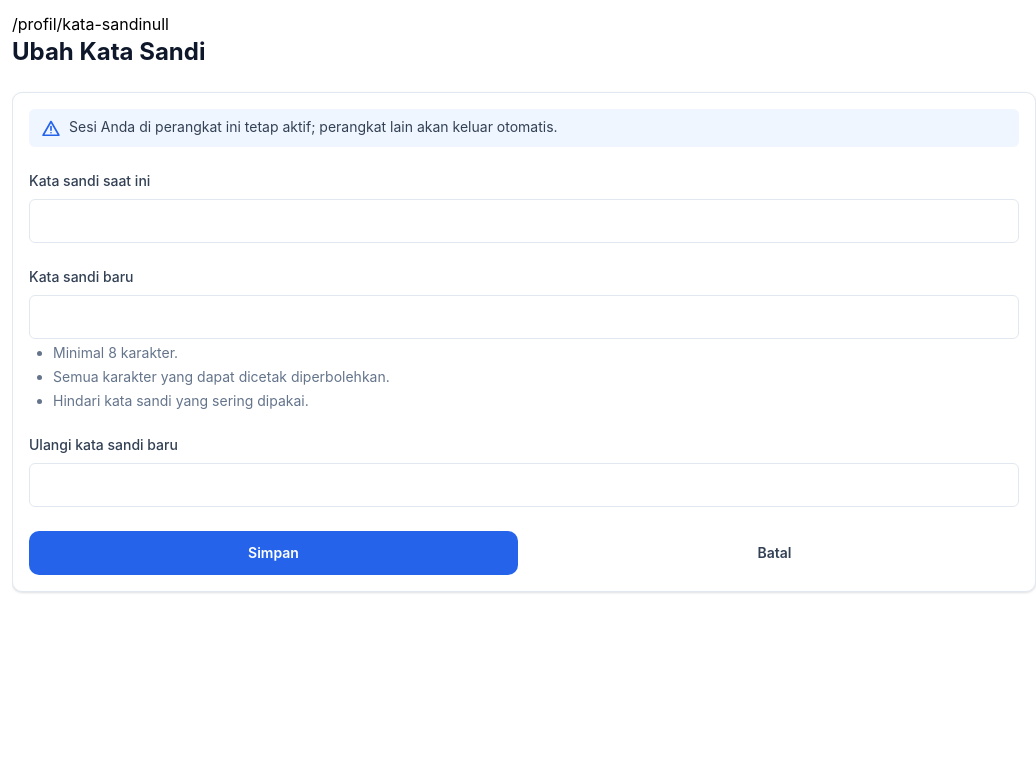
Test case: ChangePasswordPage › blocks a mismatched confirmation before any request is made
Type "old-secret-1" into the password field labelled "Kata sandi saat ini" at (524, 221), box [29,199,1019,243]
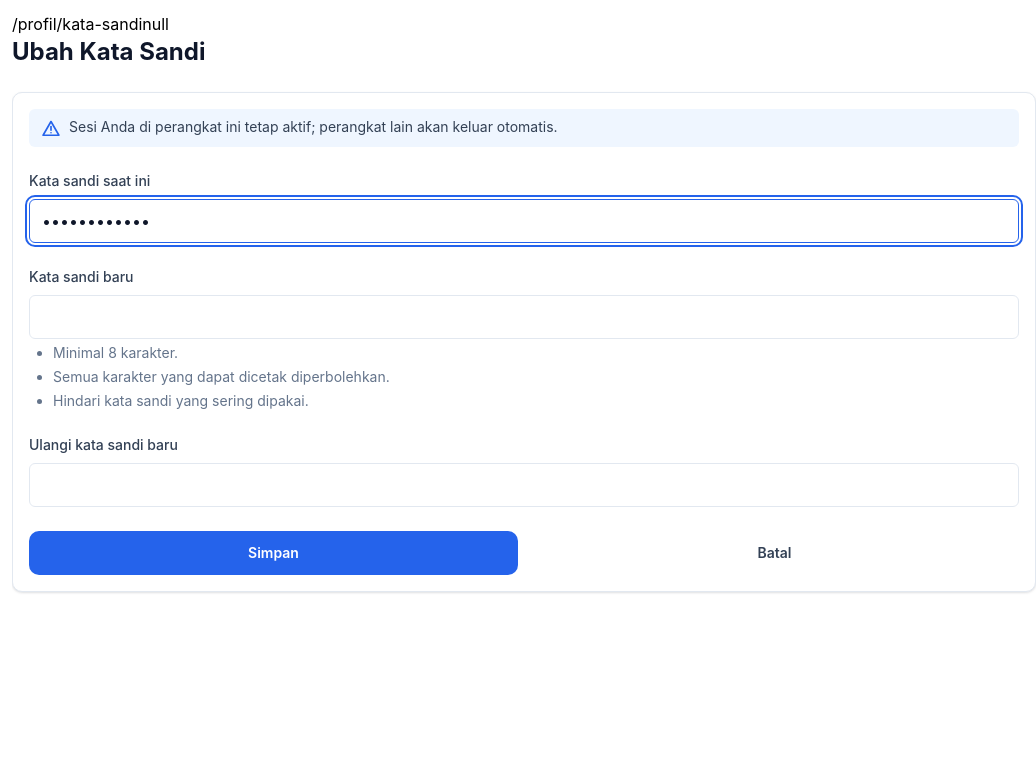
Type "brand-new-pass" into the password field labelled "Kata sandi baru" at (524, 317), box [29,295,1019,339]
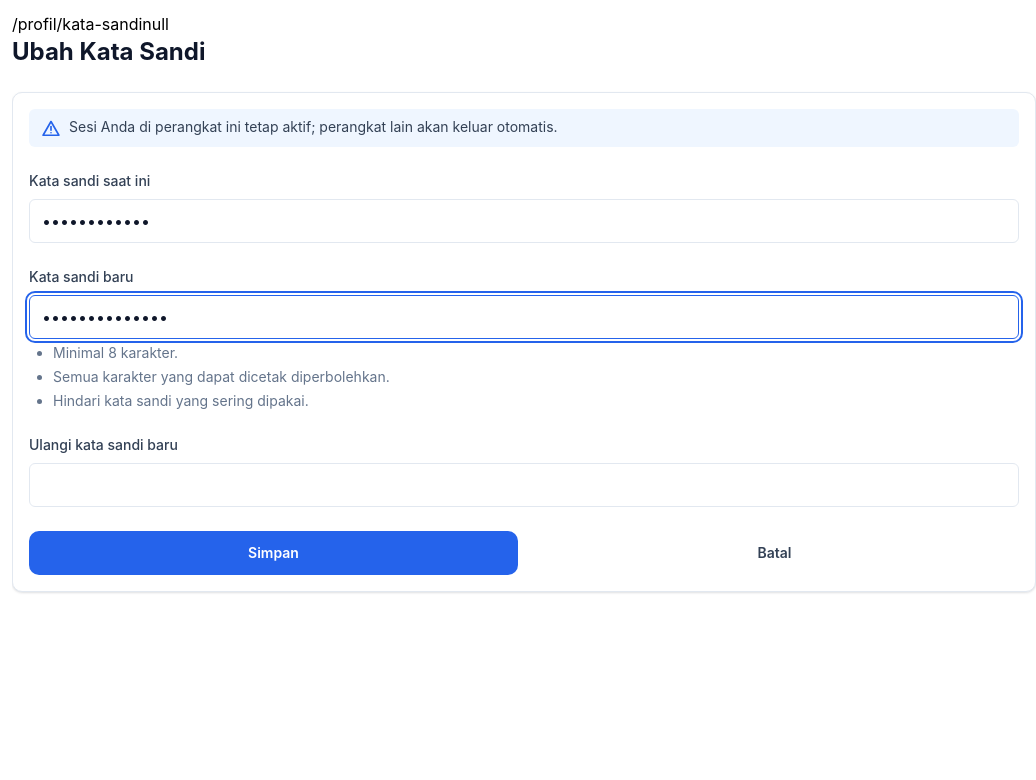
Type "different-pass" into the password field labelled "Ulangi kata sandi baru" at (524, 485), box [29,463,1019,507]
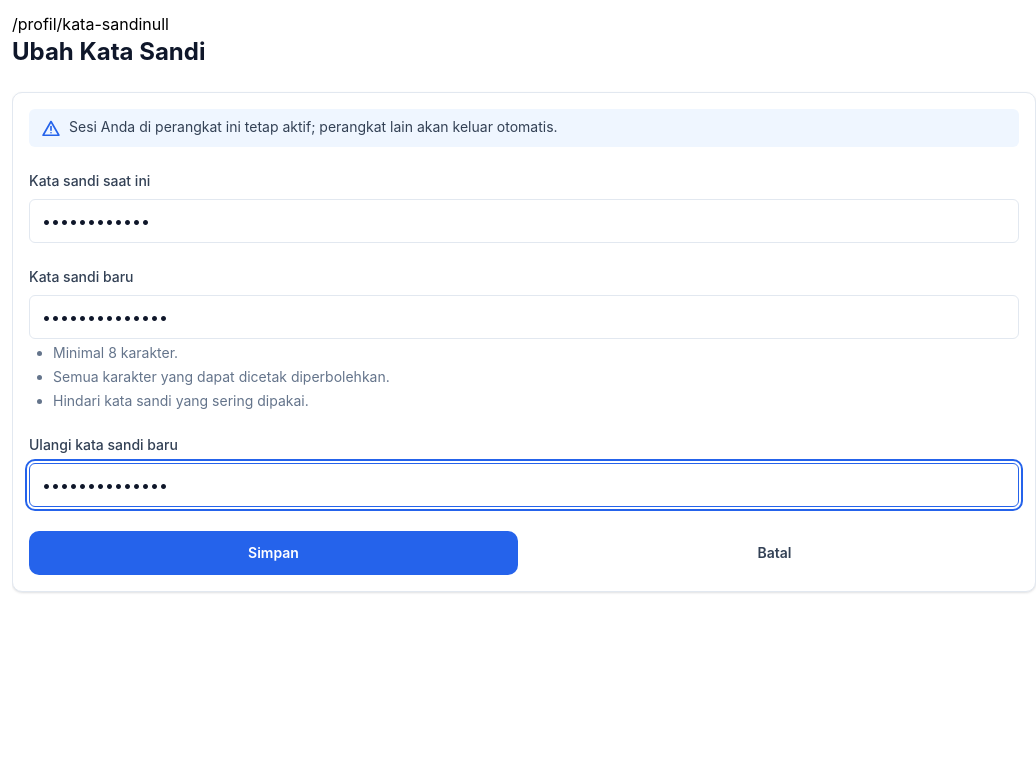
Click the button "Simpan" at (274, 553), box [29,531,518,575]
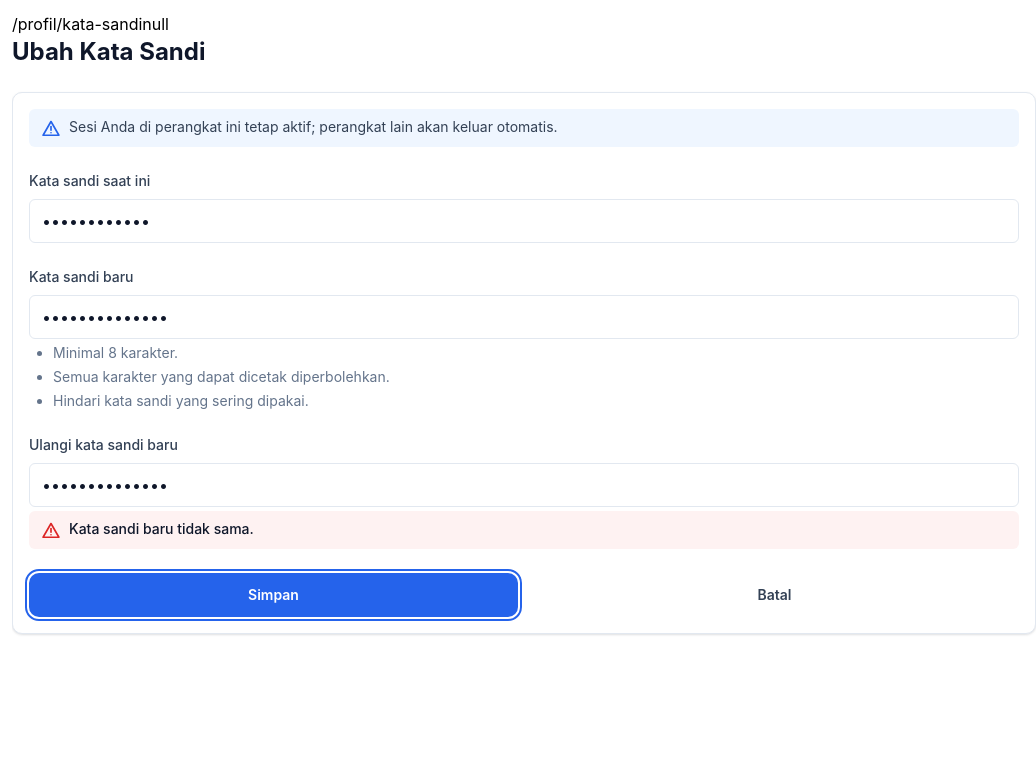
Now the message with test id "password-error" reads "Kata sandi baru tidak sama.", box [69,520,254,537]
